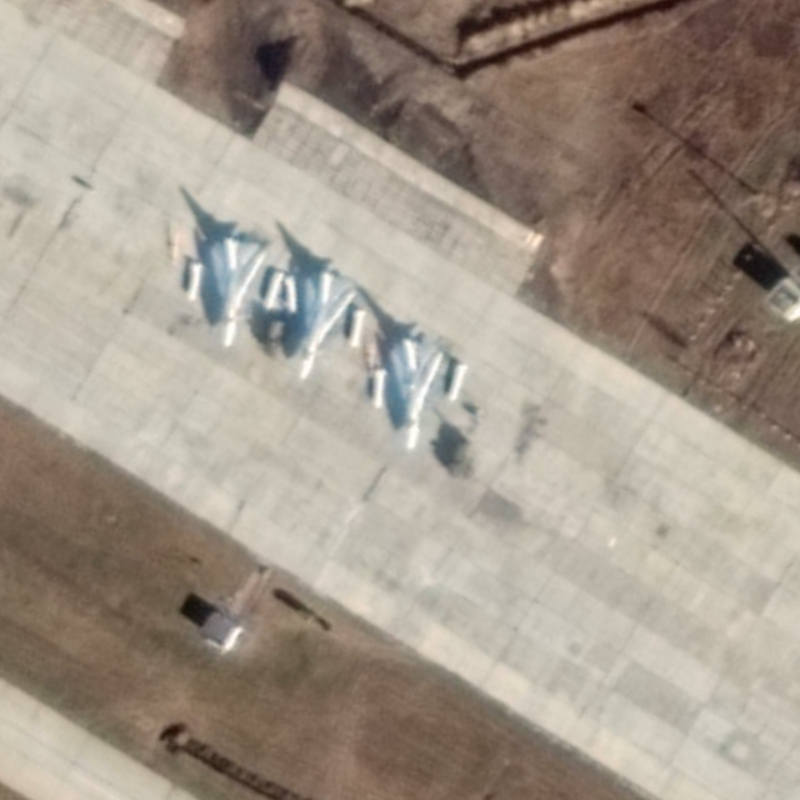A20: (296, 269, 359, 381), (208, 234, 269, 349), (387, 336, 445, 453)
